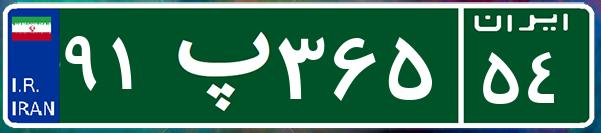1: (110, 28, 158, 105)
3: (273, 28, 330, 110)
4: (525, 38, 570, 115)
5: (385, 28, 445, 110), (475, 38, 525, 113)
6: (330, 28, 385, 110)
9: (57, 26, 110, 107)
پ: (158, 15, 273, 115)
